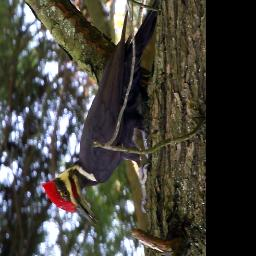Woodpecker: (40, 0, 162, 225)
